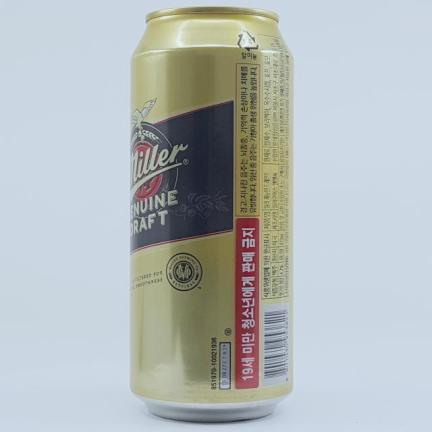can: (129, 7, 293, 421)
